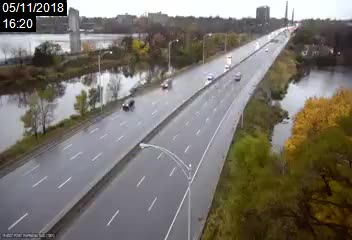personal_car: (121, 99, 135, 110), (160, 78, 173, 89), (233, 71, 242, 82), (206, 72, 214, 82)
